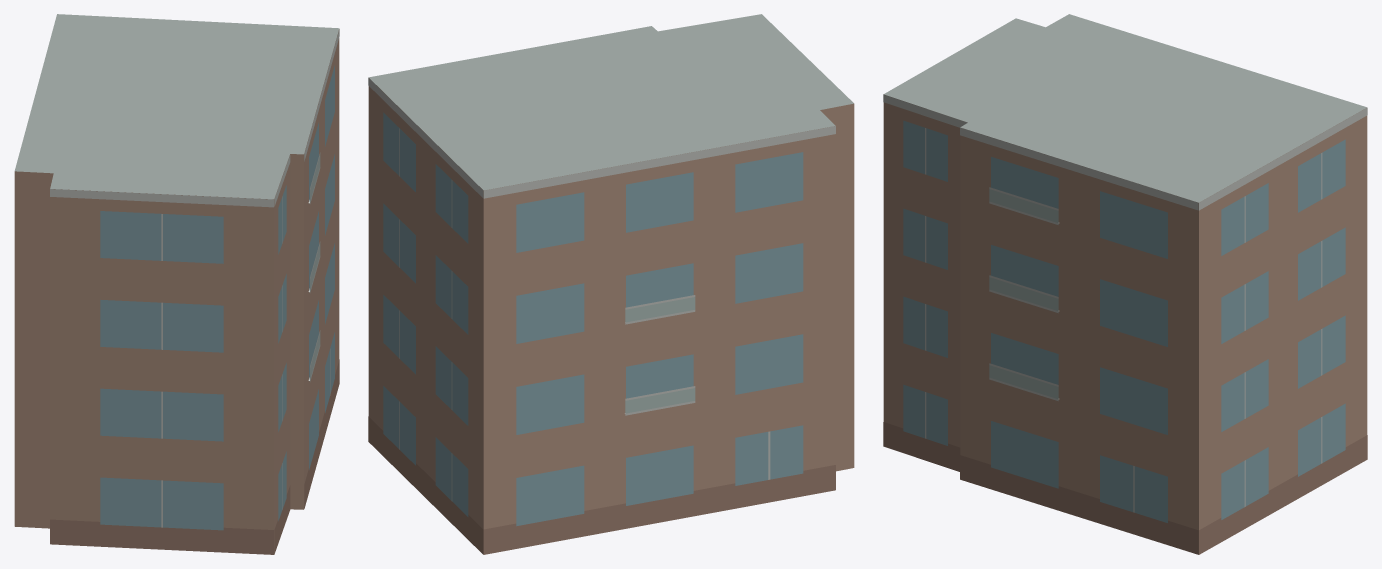
File: survey-upis-32735701.glb
3 renders of one model, left to right at view 1: azimuth 30°, elevation 25°; view 2: azimuth 150°, elevation 25°; view 3: azimuth 270°, elevation 25°, orthographic. The views are drawn at different scales.
Parts seen in each view (by area): view 1: survey-upis-32735701.tmp; view 2: survey-upis-32735701.tmp; view 3: survey-upis-32735701.tmp.
Part boxes in pixels (x1=…): survey-upis-32735701.tmp: x1=14, y1=14, x2=339, y2=554; survey-upis-32735701.tmp: x1=368, y1=14, x2=854, y2=554; survey-upis-32735701.tmp: x1=883, y1=14, x2=1367, y2=554.
Bounding box in the file's own units: 12.48 × 10.85 × 13.52.
